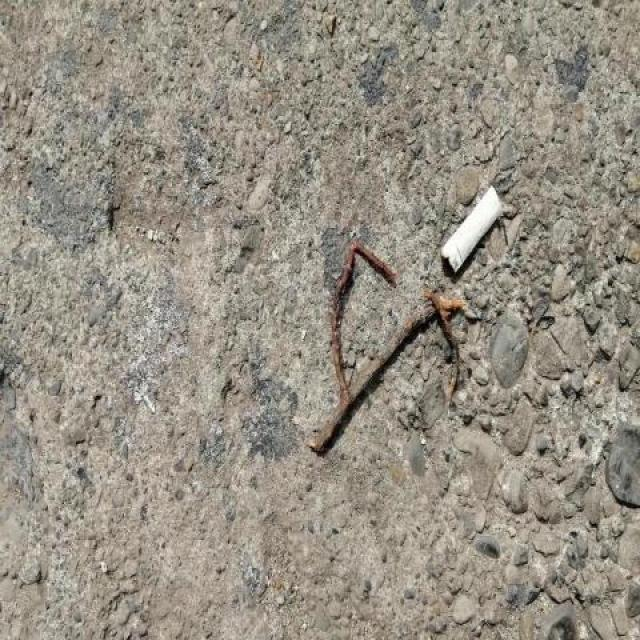non-organic waste: (437, 180, 507, 285)
